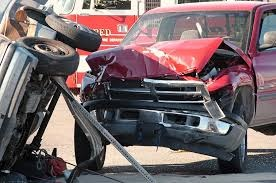Smashed: (77, 37, 254, 170)
